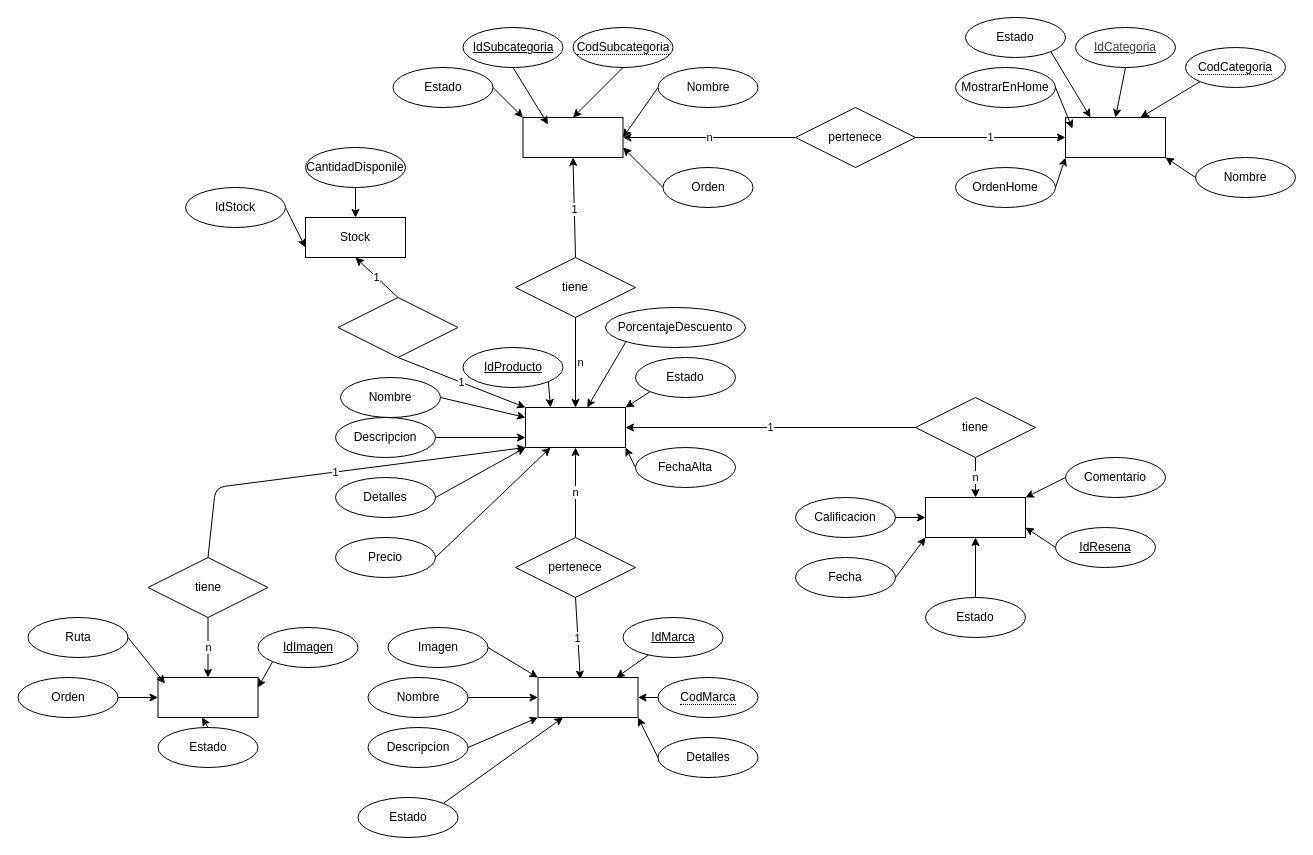
Some shapes in this 1313 by 855 pixel diagram are drawn without their labels. The shapes that lost their labels are listed below. From the top down, each one's box as (x1, y1, x2, y2) in pixels, then its label:
(522, 116, 623, 158): Subcategoria
(1064, 116, 1166, 158): Categoria
(337, 296, 458, 358): cuentacon
(524, 406, 626, 448): Producto
(924, 496, 1026, 538): Resena
(157, 676, 258, 718): Imagen_Producto
(537, 676, 638, 718): Marca
